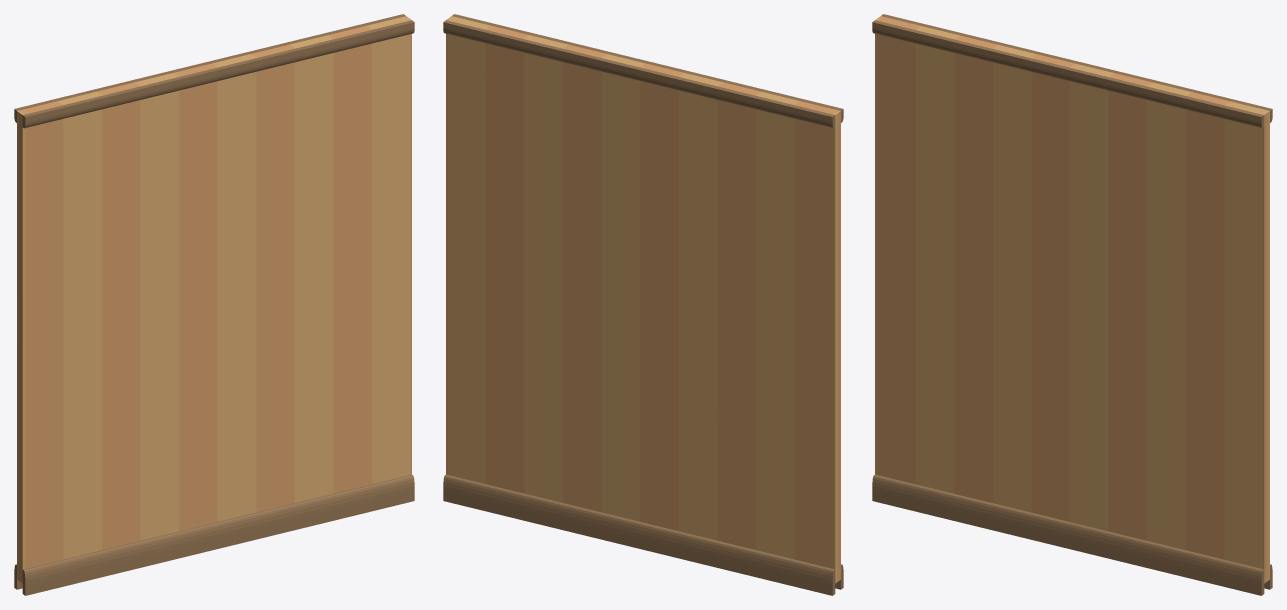
Rendered from House_wall.fbx.
3 renders of one model, left to right at view 1: azimuth 30°, elevation 25°; view 2: azimuth 150°, elevation 25°; view 3: azimuth 330°, elevation 25°, orthographic.
Visible parts, largest first — view 1: wall_basic, plint_floor, plint_floor.001, plint_floor.005; view 2: wall_basic, plint_floor.004, plint_floor.005, plint_floor.001; view 3: wall_basic, plint_floor, plint_floor.001, plint_floor.005.
Boxes of the visible parts, box(x1,y1,x2,y2) form: wall_basic: box(17, 16, 411, 583); plint_floor: box(22, 474, 414, 595); plint_floor.001: box(22, 20, 414, 128); plint_floor.005: box(14, 14, 405, 122); wall_basic: box(446, 16, 840, 583); plint_floor.004: box(443, 474, 835, 595); plint_floor.005: box(443, 20, 835, 128); plint_floor.001: box(452, 14, 843, 122); wall_basic: box(875, 16, 1269, 583); plint_floor: box(872, 474, 1264, 595); plint_floor.001: box(872, 20, 1264, 128); plint_floor.005: box(881, 14, 1272, 122).
Bounding box in the file's own units: 200 × 235 × 10.
3 materials, 1 textured.
